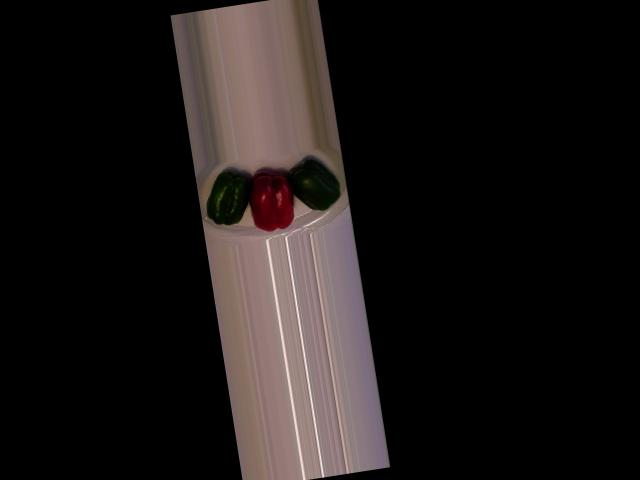bell_pepper: (285, 150, 346, 221)
